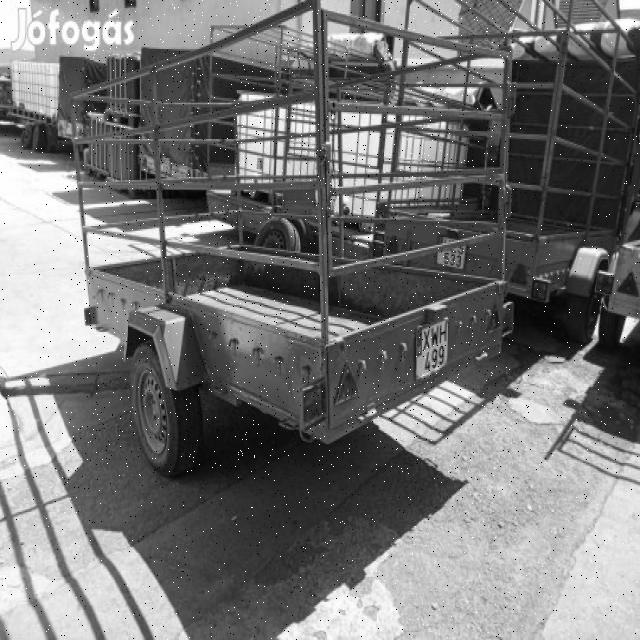Box Truck: (69, 0, 518, 480)
